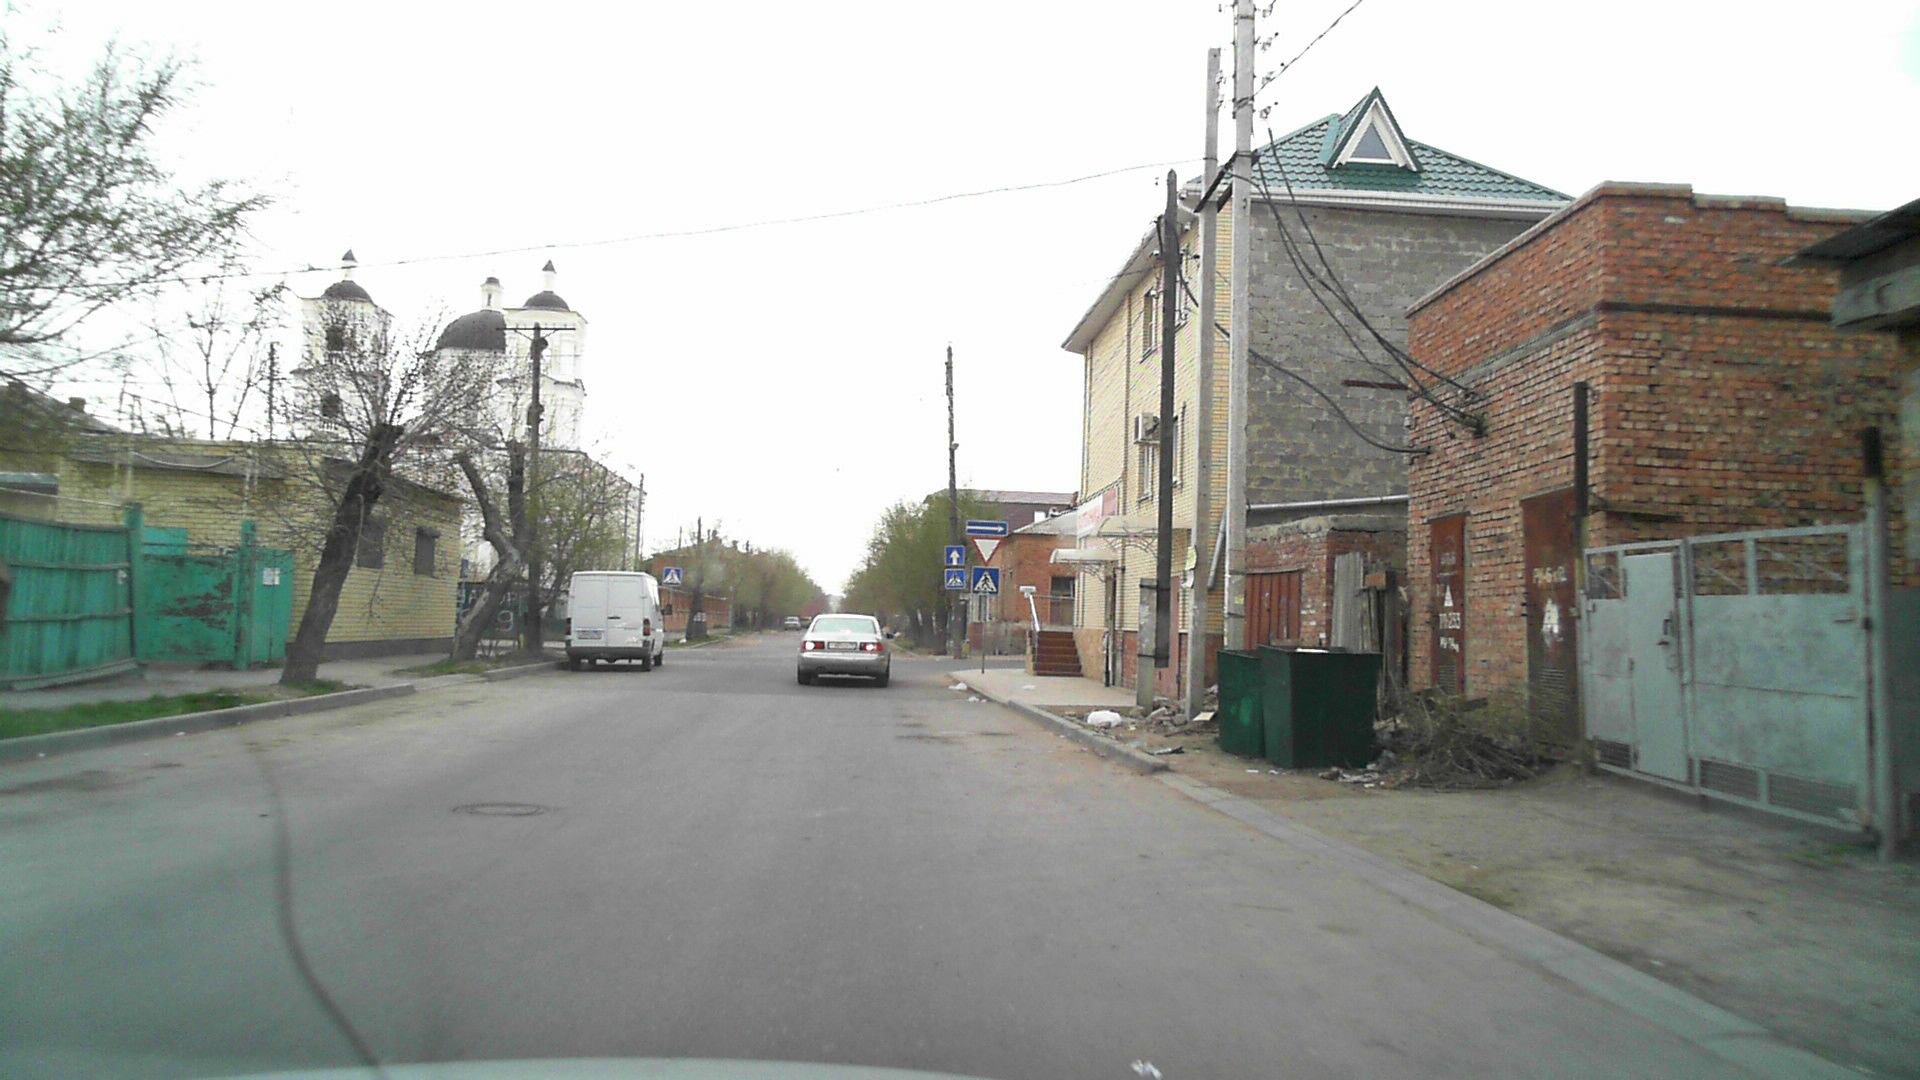One-Way Traffic: (967, 520, 1007, 535)
Pedestrian Crossing: (972, 568, 1000, 593)
